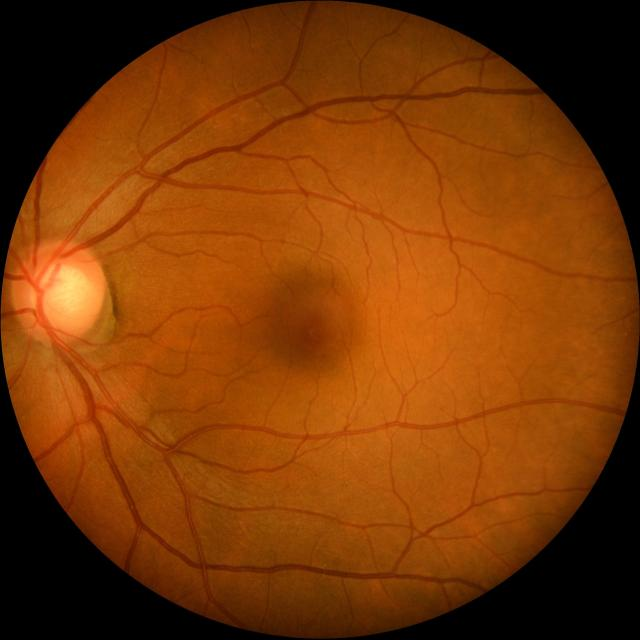OC: (34, 262, 90, 326)
OD: (12, 240, 105, 344)
